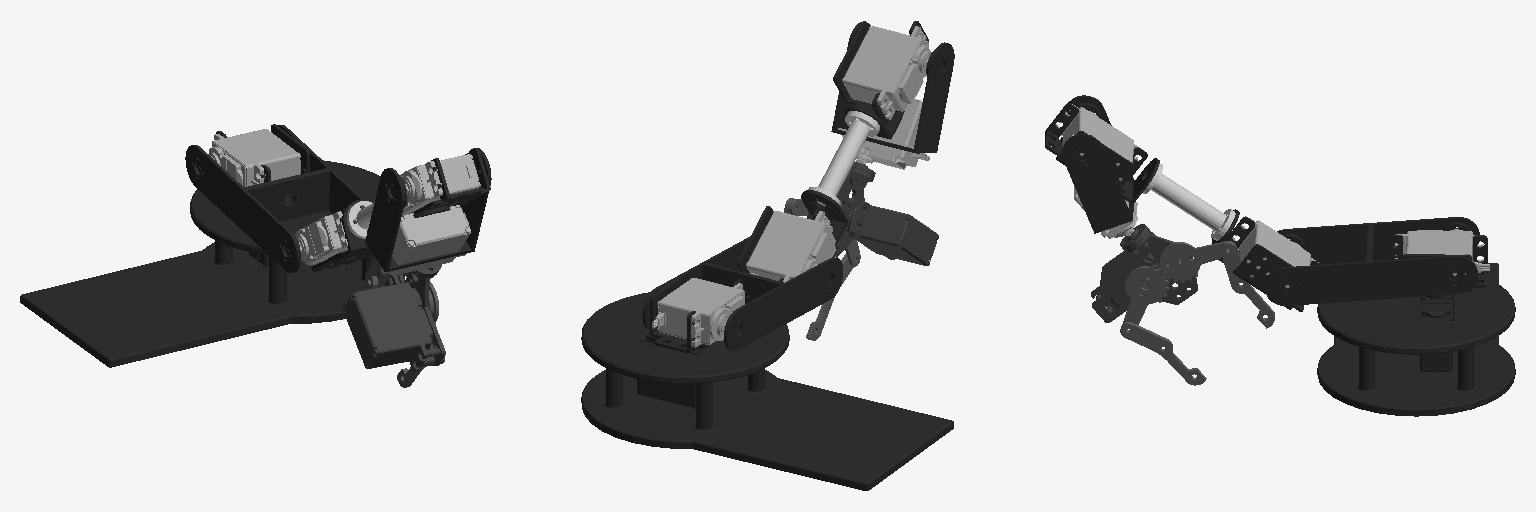
robot.urdf — six_dof_vthree:
<?xml version="1.0" encoding="utf-8"?>
<!-- This URDF was automatically created by SolidWorks to URDF Exporter! Originally created by [author] ([email redacted]) 
     Commit Version: 1.6.0-1-g15f4949  Build Version: 1.6.7594.29634
     For more information, please see http://wiki.ros.org/sw_urdf_exporter -->
<robot
  name="six_dof_vthree">
  <link
    name="base_link">
    <inertial>
      <origin
        xyz="-0.024694 0.018581 -0.0016056"
        rpy="0 0 0" />
      <mass
        value="0.19977" />
      <inertia
        ixx="0.00021667"
        ixy="-6.915E-05"
        ixz="-1.4303E-06"
        iyy="0.00066333"
        iyz="-1.3232E-06"
        izz="0.00056953" />
    </inertial>
    <visual>
      <origin
        xyz="0 0 0"
        rpy="0 0 0" />
      <geometry>
        <mesh
          filename="package://tesr_ros_six_servo_robot_pkg/meshes/base_link.STL" />
      </geometry>
      <material
        name="">
        <color
          rgba="0.2 0.2 0.2 1" />
      </material>
    </visual>
    <collision>
      <origin
        xyz="0 0 0"
        rpy="0 0 0" />
      <geometry>
        <mesh
          filename="package://tesr_ros_six_servo_robot_pkg/meshes/base_link.STL" />
      </geometry>
    </collision>
  </link>
  <link
    name="link_1">
    <inertial>
      <origin
        xyz="-0.00018294 -0.00067148 -0.010104"
        rpy="0 0 0" />
      <mass
        value="0.016244" />
      <inertia
        ixx="4.3344E-06"
        ixy="-6.8318E-07"
        ixz="3.7263E-07"
        iyy="3.4552E-06"
        iyz="-2.0145E-07"
        izz="6.1023E-06" />
    </inertial>
    <visual>
      <origin
        xyz="0 0 0"
        rpy="0 0 0" />
      <geometry>
        <mesh
          filename="package://tesr_ros_six_servo_robot_pkg/meshes/link_1.STL" />
      </geometry>
      <material
        name="">
        <color
          rgba="0.2 0.2 0.2 1" />
      </material>
    </visual>
    <collision>
      <origin
        xyz="0 0 0"
        rpy="0 0 0" />
      <geometry>
        <mesh
          filename="package://tesr_ros_six_servo_robot_pkg/meshes/link_1.STL" />
      </geometry>
    </collision>
  </link>
  <joint
    name="joint_1"
    type="revolute">
    <origin
      xyz="-0.01 0.012 0.05175"
      rpy="3.1416 0 -0.52" /> <!--rpy="3.1416 0 1.0695" /-->
    <parent
      link="base_link" />
    <child
      link="link_1" />
    <axis
      xyz="0 0 -1" />
    <limit
      lower="-3.14"
      upper="3.14"
      effort="0"
      velocity="0" />
  </joint>
  <link
    name="link_2">
    <inertial>
      <origin
        xyz="-0.00030577 -0.0082896 4.0228E-09"
        rpy="0 0 0" />
      <mass
        value="0.03093" />
      <inertia
        ixx="1.6875E-06"
        ixy="3.9477E-08"
        ixz="8.0268E-13"
        iyy="5.2032E-06"
        iyz="-5.5581E-13"
        izz="4.903E-06" />
    </inertial>
    <visual>
      <origin
        xyz="0 0 0"
        rpy="0 0 0" />
      <geometry>
        <mesh
          filename="package://tesr_ros_six_servo_robot_pkg/meshes/link_2.STL" />
      </geometry>
      <material
        name="">
        <color
          rgba="0.7 0.7 0.7 1" />
      </material>
    </visual>
    <collision>
      <origin
        xyz="0 0 0"
        rpy="0 0 0" />
      <geometry>
        <mesh
          filename="package://tesr_ros_six_servo_robot_pkg/meshes/link_2.STL" />
      </geometry>
    </collision>
  </link>
  <joint
    name="joint_2"
    type="fixed">
    <origin
      xyz="-0.016812 0.0071743 -0.017792"
      rpy="0 0 1.0713" />
    <parent
      link="link_1" />
    <child
      link="link_2" />
    <axis
      xyz="0 0 0" />
  </joint>
  <link
    name="link_3">
    <inertial>
      <origin
        xyz="-0.004182 0.051 -4.3715E-16"
        rpy="0 0 0" />
      <mass
        value="0.049995" />
      <inertia
        ixx="2.134E-05"
        ixy="-3.8211E-21"
        ixz="-1.5525E-18"
        iyy="3.0287E-05"
        iyz="-3.1779E-15"
        izz="4.6603E-05" />
    </inertial>
    <visual>
      <origin
        xyz="0 0 0"
        rpy="0 0 0" />
      <geometry>
        <mesh
          filename="package://tesr_ros_six_servo_robot_pkg/meshes/link_3.STL" />
      </geometry>
      <material
        name="">
        <color
          rgba="0.2 0.2 0.2 1" />
      </material>
    </visual>
    <collision>
      <origin
        xyz="0 0 0"
        rpy="0 0 0" />
      <geometry>
        <mesh
          filename="package://tesr_ros_six_servo_robot_pkg/meshes/link_3.STL" />
      </geometry>
    </collision>
  </link>
  <joint
    name="joint_3"
    type="revolute">
    <origin
      xyz="-0.01 0 0"
      rpy="3.05432 0 1.5708" />
    <parent
      link="link_2" />
    <child
      link="link_3" />
    <axis
      xyz="1 0 0" />
    <limit
      lower="-3.14"
      upper="3.14"
      effort="0"
      velocity="0" />
  </joint>
  <link
    name="link_4">
    <inertial>
      <origin
        xyz="0.0097832 -0.0082336 4.3055E-09"
        rpy="0 0 0" />
      <mass
        value="0.030816" />
      <inertia
        ixx="1.6871E-06"
        ixy="3.9477E-08"
        ixz="9.0364E-13"
        iyy="5.2026E-06"
        iyz="-6.1004E-13"
        izz="4.9025E-06" />
    </inertial>
    <visual>
      <origin
        xyz="0 0 0"
        rpy="0 0 0" />
      <geometry>
        <mesh
          filename="package://tesr_ros_six_servo_robot_pkg/meshes/link_4.STL" />
      </geometry>
      <material
        name="">
        <color
          rgba="0.7 0.7 0.7 1" />
      </material>
    </visual>
    <collision>
      <origin
        xyz="0 0 0"
        rpy="0 0 0" />
      <geometry>
        <mesh
          filename="package://tesr_ros_six_servo_robot_pkg/meshes/link_4.STL" />
      </geometry>
    </collision>
  </link>
  <joint
    name="joint_4"
    type="revolute">
    <origin
      xyz="0 0.102 0"
      rpy="3.1416 -0.6981 1.5708" />
    <parent
      link="link_3" />
    <child
      link="link_4" />
    <axis
      xyz="0 -1 0" />
    <limit
      lower="-3.14"
      upper="3.14"
      effort="0"
      velocity="0" />
  </joint>
  <link
    name="link_5">
    <inertial>
      <origin
        xyz="0.017447 0.0057451 0.012304"
        rpy="0 0 0" />
      <mass
        value="0.021187" />
      <inertia
        ixx="5.9142E-06"
        ixy="4.236E-07"
        ixz="-5.2827E-11"
        iyy="7.2085E-06"
        iyz="3.3227E-07"
        izz="3.809E-06" />
    </inertial>
    <visual>
      <origin
        xyz="0 0 0"
        rpy="0 0 0" />
      <geometry>
        <mesh
          filename="package://tesr_ros_six_servo_robot_pkg/meshes/link_5.STL" />
      </geometry>
      <material
        name="">
        <color
          rgba="0.2 0.2 0.2 1" />
      </material>
    </visual>
    <collision>
      <origin
        xyz="0 0 0"
        rpy="0 0 0" />
      <geometry>
        <mesh
          filename="package://tesr_ros_six_servo_robot_pkg/meshes/link_5.STL" />
      </geometry>
    </collision>
  </link>
  <joint
    name="joint_5"
    type="fixed">
    <origin
      xyz="0.031 -0.032 0.013292"
      rpy="-1.5708 0 1.5708" />
    <parent
      link="link_4" />
    <child
      link="link_5" />
    <axis
      xyz="0 0 0" />
  </joint>
  <link
    name="link_6">
    <inertial>
      <origin
        xyz="-2.7756E-17 -0.030497 -6.3079E-16"
        rpy="0 0 0" />
      <mass
        value="0.0078846" />
      <inertia
        ixx="2.8919E-06"
        ixy="-1.6756E-21"
        ixz="-1.3442E-24"
        iyy="2.2554E-07"
        iyz="1.7249E-22"
        izz="2.8919E-06" />
    </inertial>
    <visual>
      <origin
        xyz="0 0 0"
        rpy="0 0 0" />
      <geometry>
        <mesh
          filename="package://tesr_ros_six_servo_robot_pkg/meshes/link_6.STL" />
      </geometry>
      <material
        name="">
        <color
          rgba="0.8 0.8 0.8 1" />
      </material>
    </visual>
    <collision>
      <origin
        xyz="0 0 0"
        rpy="0 0 0" />
      <geometry>
        <mesh
          filename="package://tesr_ros_six_servo_robot_pkg/meshes/link_6.STL" />
      </geometry>
    </collision>
  </link>
  <joint
    name="joint_6"
    type="fixed">
    <origin
      xyz="0.025217 0.0139 -0.013799"
      rpy="1.5708 0 -1.5708" />
    <parent
      link="link_5" />
    <child
      link="link_6" />
    <axis
      xyz="0 0 0" />
  </joint>
  <link
    name="link_7">
    <inertial>
      <origin
        xyz="0.028032 0.0047299 -0.0077781"
        rpy="0 0 0" />
      <mass
        value="0.021187" />
      <inertia
        ixx="3.809E-06"
        ixy="5.2827E-11"
        ixz="-3.2899E-07"
        iyy="5.9142E-06"
        iyz="-4.236E-07"
        izz="7.2085E-06" />
    </inertial>
    <visual>
      <origin
        xyz="0 0 0"
        rpy="0 0 0" />
      <geometry>
        <mesh
          filename="package://tesr_ros_six_servo_robot_pkg/meshes/link_7.STL" />
      </geometry>
      <material
        name="">
        <color
          rgba="0.2 0.2 0.2 1" />
      </material>
    </visual>
    <collision>
      <origin
        xyz="0 0 0"
        rpy="0 0 0" />
      <geometry>
        <mesh
          filename="package://tesr_ros_six_servo_robot_pkg/meshes/link_7.STL" />
      </geometry>
    </collision>
  </link>
  <joint
    name="joint_7"
    type="fixed">
    <origin
      xyz="0.016 -0.059015 0.0125"
      rpy="-1.5708 0 -1.5708" />
    <parent
      link="link_6" />
    <child
      link="link_7" />
    <axis
      xyz="0 0 0" />
  </joint>
  <link
    name="link_8">
    <inertial>
      <origin
        xyz="-0.000216828113527717 -0.00823361941068958 4.30062174761048E-09"
        rpy="0 0 0" />
      <mass
        value="0.0308161398251486" />
      <inertia
        ixx="1.68714358570622E-06"
        ixy="3.94774683741194E-08"
        ixz="9.02243960309693E-13"
        iyy="5.2025774371148E-06"
        iyz="-6.09807048470312E-13"
        izz="4.9025002529183E-06" />
    </inertial>
    <visual>
      <origin
        xyz="0 0 0"
        rpy="0 0 0" />
      <geometry>
        <mesh
          filename="package://tesr_ros_six_servo_robot_pkg/meshes/link_8.STL" />
      </geometry>
      <material
        name="">
        <color
          rgba="0.7 0.7 0.7 1" />
      </material>
    </visual>
    <collision>
      <origin
        xyz="0 0 0"
        rpy="0 0 0" />
      <geometry>
        <mesh
          filename="package://tesr_ros_six_servo_robot_pkg/meshes/link_8.STL" />
      </geometry>
    </collision>
  </link>
  <joint
    name="joint_8"
    type="fixed">
    <origin
      xyz="0.036754 0.019283 -0.015292"
      rpy="3.1416 0 -3.1416" />
    <parent
      link="link_7" />
    <child
      link="link_8" />
    <axis
      xyz="0 0 0" />
  </joint>
  <link
    name="link_9">
    <inertial>
      <origin
        xyz="-0.00351339256501729 -0.0220824494550131 0.00311970106198312"
        rpy="0 0 0" />
      <mass
        value="0.0208710938956787" />
      <inertia
        ixx="2.0338815288266E-05"
        ixy="-9.52656162447708E-07"
        ixz="-1.11638519066613E-10"
        iyy="1.44907793466079E-05"
        iyz="-6.98722629147494E-10"
        izz="8.3722165314364E-06" />
    </inertial>
    <visual>
      <origin
        xyz="0 0 0"
        rpy="0 0 0" />
      <geometry>
        <mesh
          filename="package://tesr_ros_six_servo_robot_pkg/meshes/link_9.STL" />
      </geometry>
      <material
        name="">
        <color
          rgba="0.2 0.2 0.2 1" />
      </material>
    </visual>
    <collision>
      <origin
        xyz="0 0 0"
        rpy="0 0 0" />
      <geometry>
        <mesh
          filename="package://tesr_ros_six_servo_robot_pkg/meshes/link_9.STL" />
      </geometry>
    </collision>
  </link>
  <joint
    name="joint_9"
    type="revolute">
    <origin
      xyz="-0.01 0 0"
      rpy="1.5708 -1.13446 0" />
    <parent
      link="link_8" />
    <child
      link="link_9" />
    <axis
      xyz="0 0 -1" />
    <limit
      lower="-3.14"
      upper="3.14"
      effort="0"
      velocity="0" />
  </joint>
  <link
    name="link_10">
    <inertial>
      <origin
        xyz="-0.0002168280519851 -0.00823361951667059 4.41184394572858E-09"
        rpy="0 0 0" />
      <mass
        value="0.030816139430284" />
      <inertia
        ixx="1.687143637864E-06"
        ixy="3.94774699970568E-08"
        ixz="9.23313678770479E-13"
        iyy="5.2025773326752E-06"
        iyz="-6.08644339845992E-13"
        izz="4.9025001142284E-06" />
    </inertial>
    <visual>
      <origin
        xyz="0 0 0"
        rpy="0 0 0" />
      <geometry>
        <mesh
          filename="package://tesr_ros_six_servo_robot_pkg/meshes/link_10.STL" />
      </geometry>
      <material
        name="">
        <color
          rgba="0.7 0.7 0.7 1" />
      </material>
    </visual>
    <collision>
      <origin
        xyz="0 0 0"
        rpy="0 0 0" />
      <geometry>
        <mesh
          filename="package://tesr_ros_six_servo_robot_pkg/meshes/link_10.STL" />
      </geometry>
    </collision>
  </link>
  <joint
    name="joint_10"
    type="fixed">
    <origin
      xyz="-0.0080654 -0.050358 0.0055"
      rpy="2.9835 1.5708 0" />
    <parent
      link="link_9" />
    <child
      link="link_10" />
    <axis
      xyz="0 0 0" />
  </joint>
  <link
    name="link_11">
    <inertial>
      <origin
        xyz="-0.0179796830430524 0.0176119337980501 -0.0276487816012455"
        rpy="0 0 0" />
      <mass
        value="0.0394323641558575" />
      <inertia
        ixx="2.3493041489984E-06"
        ixy="2.79264066382846E-07"
        ixz="8.77932216619499E-09"
        iyy="7.25682088953817E-06"
        iyz="-6.63070840397994E-10"
        izz="6.54663315578873E-06" />
    </inertial>
    <visual>
      <origin
        xyz="0 0 0"
        rpy="0 0 0" />
      <geometry>
        <mesh
          filename="package://tesr_ros_six_servo_robot_pkg/meshes/link_11.STL" />
      </geometry>
      <material
        name="">
        <color
          rgba="0.3 0.3 0.3 1" />
      </material>
    </visual>
    <collision>
      <origin
        xyz="0 0 0"
        rpy="0 0 0" />
      <geometry>
        <mesh
          filename="package://tesr_ros_six_servo_robot_pkg/meshes/link_11.STL" />
      </geometry>
    </collision>
  </link>
  <joint
    name="joint_11"
    type="revolute">
    <origin
      xyz="-0.01 0.015896 0"
      rpy="-1.5708 1.5708 -3.1416" />
    <parent
      link="link_10" />
    <child
      link="link_11" />
    <axis
      xyz="0 0 -1" />
    <limit
      lower="-3.14"
      upper="3.14"
      effort="0"
      velocity="0" />
  </joint>
  <link
    name="link_12_1">
    <inertial>
      <origin
        xyz="0.000111818837647881 -0.00276320253830744 0.00446257533240041"
        rpy="0 0 0" />
      <mass
        value="0.00341955118879606" />
      <inertia
        ixx="2.65564690155204E-07"
        ixy="-4.91339632043252E-09"
        ixz="9.40271711925512E-23"
        iyy="9.83115433738288E-08"
        iyz="-1.92532749920253E-22"
        izz="3.58855211908907E-07" />
    </inertial>
    <visual>
      <origin
        xyz="0 0 0"
        rpy="0 0 0" />
      <geometry>
        <mesh
          filename="package://tesr_ros_six_servo_robot_pkg/meshes/link_12_1.STL" />
      </geometry>
      <material
        name="">
        <color
          rgba="0.4 0.4 0.4 1" />
      </material>
    </visual>
    <collision>
      <origin
        xyz="0 0 0"
        rpy="0 0 0" />
      <geometry>
        <mesh
          filename="package://tesr_ros_six_servo_robot_pkg/meshes/link_12_1.STL" />
      </geometry>
    </collision>
  </link>
  <joint
    name="joitn_12_1"
    type="revolute">
    <origin
      xyz="-0.013061 0.00053714 -0.030854"
      rpy="1.5708 1.0128 -0.041103" />
    <parent
      link="link_11" />
    <child
      link="link_12_1" />
    <axis
      xyz="0 0 1" />
    <limit
      lower="-3.14"
      upper="3.14"
      effort="0"
      velocity="0" />
  </joint>
  <link
    name="link_13_1">
    <inertial>
      <origin
        xyz="-0.00629539510608565 0.0227381038998286 0.00841717476312126"
        rpy="0 0 0" />
      <mass
        value="0.00148390327012937" />
      <inertia
        ixx="4.34064262982202E-07"
        ixy="7.40371580775276E-08"
        ixz="2.016252743098E-24"
        iyy="2.90889864815549E-08"
        iyz="-8.94986804562501E-23"
        izz="4.60927394558563E-07" />
    </inertial>
    <visual>
      <origin
        xyz="0 0 0"
        rpy="0 0 0" />
      <geometry>
        <mesh
          filename="package://tesr_ros_six_servo_robot_pkg/meshes/link_13_1.STL" />
      </geometry>
      <material
        name="">
        <color
          rgba="0.4 0.4 0.4 1" />
      </material>
    </visual>
    <collision>
      <origin
        xyz="0 0 0"
        rpy="0 0 0" />
      <geometry>
        <mesh
          filename="package://tesr_ros_six_servo_robot_pkg/meshes/link_13_1.STL" />
      </geometry>
    </collision>
  </link>
  <joint
    name="joint_13_1"
    type="revolute">
    <origin
      xyz="-0.00019564 -0.031049 3.2825E-05"
      rpy="0 0 -2.099" />
    <parent
      link="link_12_1" />
    <child
      link="link_13_1" />
    <axis
      xyz="0 0 1" />
    <limit
      lower="-3.14"
      upper="3.14"
      effort="0"
      velocity="0" />
  </joint>
  <link
    name="link_12_2">
    <inertial>
      <origin
        xyz="0.00026689410687139 -0.00650128014864475 -0.00811666203769354"
        rpy="0 0 0" />
      <mass
        value="0.00145339261018611" />
      <inertia
        ixx="2.1583788124175E-07"
        ixy="-4.87149989419953E-09"
        ixz="-4.13913423703292E-23"
        iyy="4.7207621717766E-08"
        iyz="-1.40052017462884E-22"
        izz="2.62001176329039E-07" />
    </inertial>
    <visual>
      <origin
        xyz="0 0 0"
        rpy="0 0 0" />
      <geometry>
        <mesh
          filename="package://tesr_ros_six_servo_robot_pkg/meshes/link_12_2.STL" />
      </geometry>
      <material
        name="">
        <color
          rgba="0.4 0.4 0.4 1" />
      </material>
    </visual>
    <collision>
      <origin
        xyz="0 0 0"
        rpy="0 0 0" />
      <geometry>
        <mesh
          filename="package://tesr_ros_six_servo_robot_pkg/meshes/link_12_2.STL" />
      </geometry>
    </collision>
  </link>
  <joint
    name="joint_12_2"
    type="revolute">
    <origin
      xyz="0.01407 0.0014175 -0.030854"
      rpy="1.5708 1.1996 3.1005" />
    <parent
      link="link_11" />
    <child
      link="link_12_2" />
    <axis
      xyz="0 0 1" />
    <limit
      lower="-3.14"
      upper="3.14"
      effort="0"
      velocity="0" />
  </joint>
  <link
    name="link_13_2">
    <inertial>
      <origin
        xyz="-0.0062954 0.022738 -0.0084837"
        rpy="0 0 0" />
      <mass
        value="0.0014839" />
      <inertia
        ixx="4.3406E-07"
        ixy="7.4037E-08"
        ixz="1.277E-22"
        iyy="2.9089E-08"
        iyz="-6.4044E-22"
        izz="4.6093E-07" />
    </inertial>
    <visual>
      <origin
        xyz="0 0 0"
        rpy="0 0 0" />
      <geometry>
        <mesh
          filename="package://tesr_ros_six_servo_robot_pkg/meshes/link_13_2.STL" />
      </geometry>
      <material
        name="">
        <color
          rgba="0.4 0.4 0.4 1" />
      </material>
    </visual>
    <collision>
      <origin
        xyz="0 0 0"
        rpy="0 0 0" />
      <geometry>
        <mesh
          filename="package://tesr_ros_six_servo_robot_pkg/meshes/link_13_2.STL" />
      </geometry>
    </collision>
  </link>
  <joint
    name="joint_13_2"
    type="revolute">
    <origin
      xyz="-0.00019564 -0.031049 -0.0022108"
      rpy="0 0 -1.939" />
    <parent
      link="link_12_2" />
    <child
      link="link_13_2" />
    <axis
      xyz="0 0 1" />
    <limit
      lower="-3.14"
      upper="3.14"
      effort="0"
      velocity="0" />
  </joint>
</robot>

--- Render facts (derived) ---
The picture shows the robot from 3 angles, left to right: view 1: azimuth 30°, elevation 25°; view 2: azimuth 150°, elevation 25°; view 3: azimuth 270°, elevation 25°; orthographic projection.
Model six_dof_vthree with 16 links and 15 joints (9 revolute, 6 fixed), rooted at base_link, posed every joint at zero.
Visible links, largest first — view 1: base_link, link_3, link_11, link_9, link_2, link_10, link_8, link_4, link_7, link_5, link_1, link_6; view 2: base_link, link_3, link_8, link_11, link_4, link_2, link_9, link_6, link_10, link_7, link_5, link_1 (+1 smaller); view 3: base_link, link_3, link_9, link_11, link_7, link_5, link_6, link_2, link_12_2, link_12_1, link_8, link_4 (+3 smaller).
Boxes of the visible links, box(x1,y1,x2,y2) form: base_link: box(20, 160, 404, 367); link_3: box(185, 125, 364, 272); link_11: box(343, 265, 445, 371); link_9: box(365, 148, 491, 271); link_2: box(208, 129, 300, 186); link_10: box(377, 205, 470, 275); link_8: box(400, 154, 480, 214); link_4: box(295, 211, 353, 265); link_7: box(409, 149, 490, 217); link_5: box(311, 199, 372, 271); link_1: box(216, 124, 309, 202); link_6: box(346, 201, 374, 238); base_link: box(581, 292, 953, 490); link_3: box(642, 237, 842, 351); link_8: box(842, 26, 931, 119); link_11: box(833, 162, 938, 265); link_4: box(746, 211, 835, 282); link_2: box(652, 278, 744, 347); link_9: box(831, 22, 954, 153); link_6: box(808, 111, 879, 205); link_10: box(838, 99, 929, 169); link_7: box(833, 21, 928, 139); link_5: box(737, 190, 847, 281); link_1: box(650, 272, 742, 352); base_link: box(1317, 263, 1515, 416); link_3: box(1264, 217, 1479, 305); link_9: box(1062, 95, 1134, 233); link_11: box(1091, 224, 1197, 322); link_7: box(1045, 103, 1159, 203); link_5: box(1212, 209, 1320, 311); link_6: box(1143, 164, 1235, 240); link_2: box(1395, 229, 1489, 275); link_12_2: box(1158, 241, 1235, 282); link_12_1: box(1123, 265, 1168, 330); link_8: box(1055, 104, 1142, 180); link_4: box(1232, 218, 1318, 287).
Bounding box of the posed robot: 0.21 × 0.2853 × 0.1769 m (x, y, z).
16 mesh visuals loaded from 16 distinct referenced files (16 binary STL).